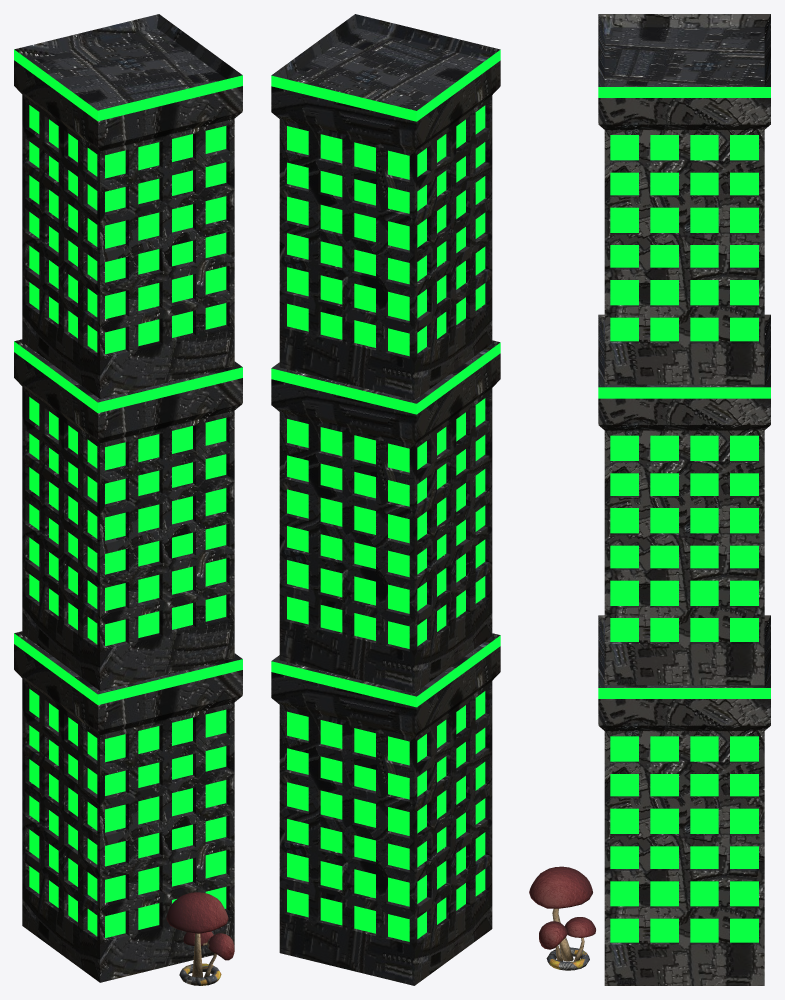
File: track1Building1.glb
3 renders of one model, left to right at view 1: azimuth 30°, elevation 25°; view 2: azimuth 150°, elevation 25°; view 3: azimuth 270°, elevation 25°, orthographic. The views are drawn at different scales.
Visible parts, largest first — view 1: Cube.014; view 2: Cube.014; view 3: Cube.014.
Part boxes in pixels (x1,y1,x2,y2): Cube.014: (14,14,242,985); Cube.014: (271,14,500,985); Cube.014: (529,14,770,985).
Bounding box in the file's own units: 2.32 × 13.43 × 3.25.
3 materials, 2 textured.
